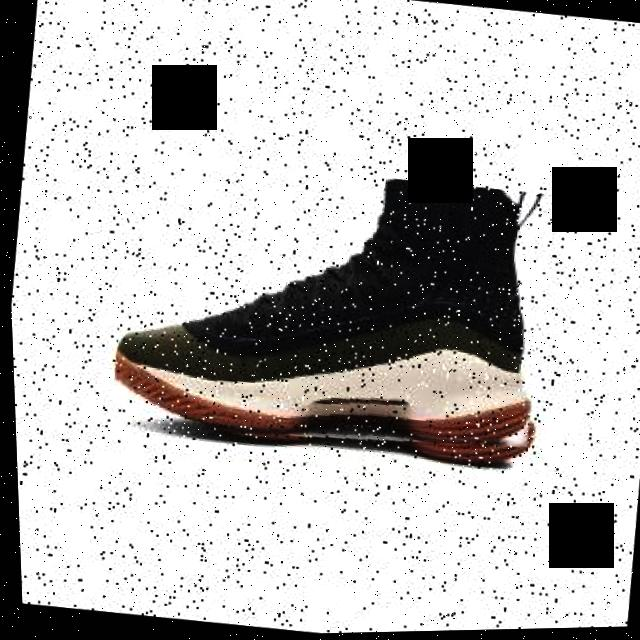shoe: (99, 146, 560, 479)
